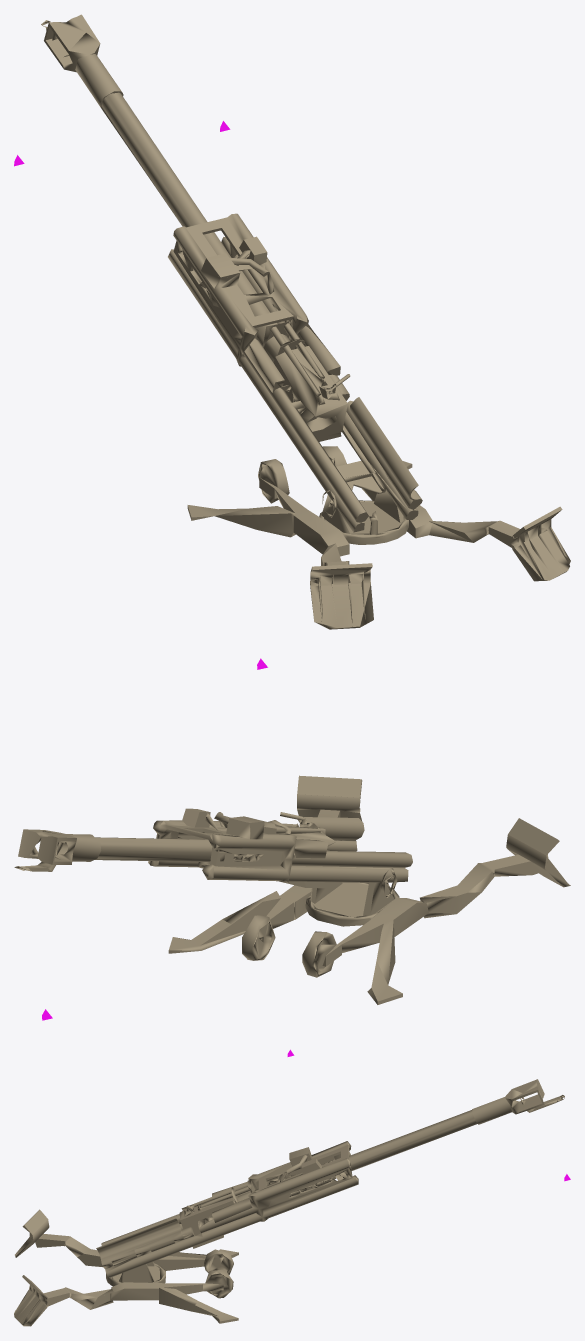
Rendered from howitzer.glb.
The picture shows the model from 3 angles, top to bottom: view 1: azimuth 30°, elevation 25°; view 2: azimuth 150°, elevation 25°; view 3: azimuth 270°, elevation 25°; orthographic projection. The views are drawn at different scales.
Visible parts, largest first — view 1: Body_1; view 2: Body_1; view 3: Body_1.
Part boxes in pixels (<box>): Body_1: <box>41,14,570,629</box>; Body_1: <box>14,775,570,1004</box>; Body_1: <box>14,1079,564,1326</box>.
Size of the model in its own units: 7.23 by 9.16 by 20.14.
Materials: 2 (1 with a texture image).
